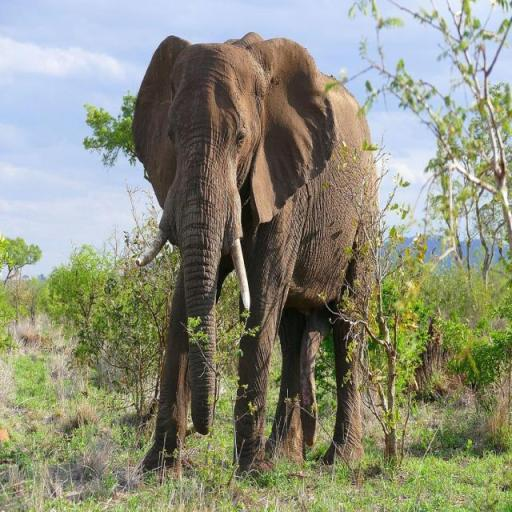Elephant: (130, 31, 380, 482)
